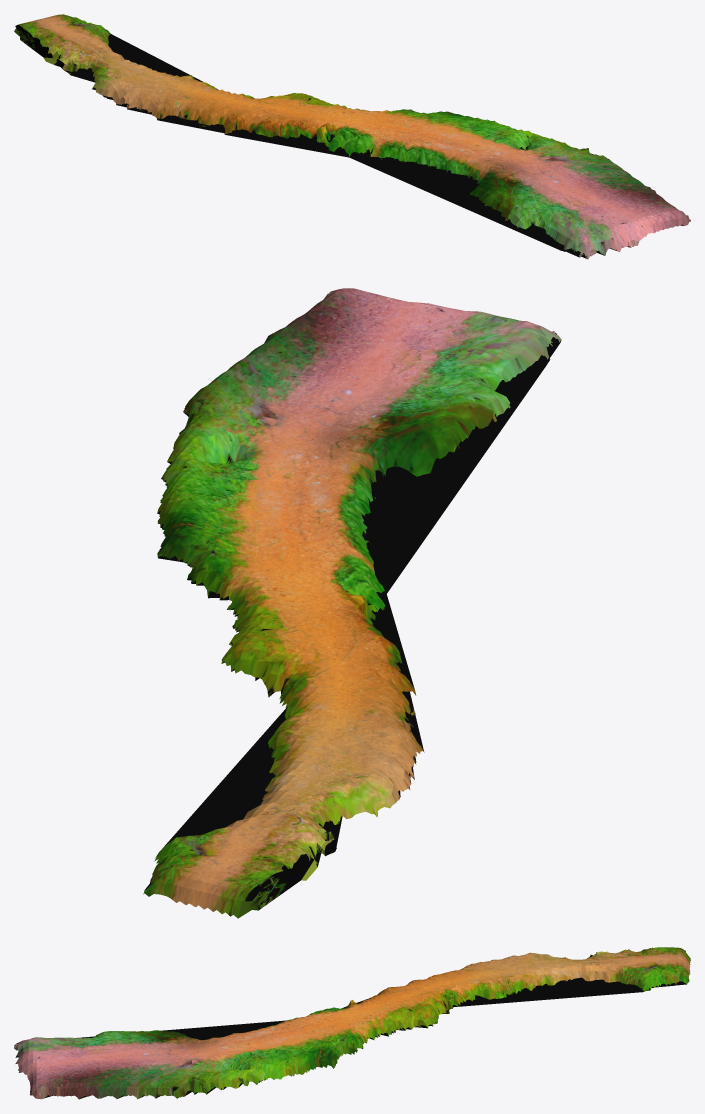
The model's file is polku-1.fbx.
3 renders of one model, top to bottom at view 1: azimuth 30°, elevation 25°; view 2: azimuth 150°, elevation 25°; view 3: azimuth 270°, elevation 25°, orthographic. The views are drawn at different scales.
Parts seen in each view (by area): view 1: texturedMesh.002; view 2: texturedMesh.002; view 3: texturedMesh.002.
Part boxes in pixels (x1,y1,x2,y2): texturedMesh.002: (14,14,690,259); texturedMesh.002: (143,288,561,918); texturedMesh.002: (14,947,690,1099).
Bounding box in the file's own units: 3140 × 150 × 6395.
Materials: 1 (1 with a texture image).
